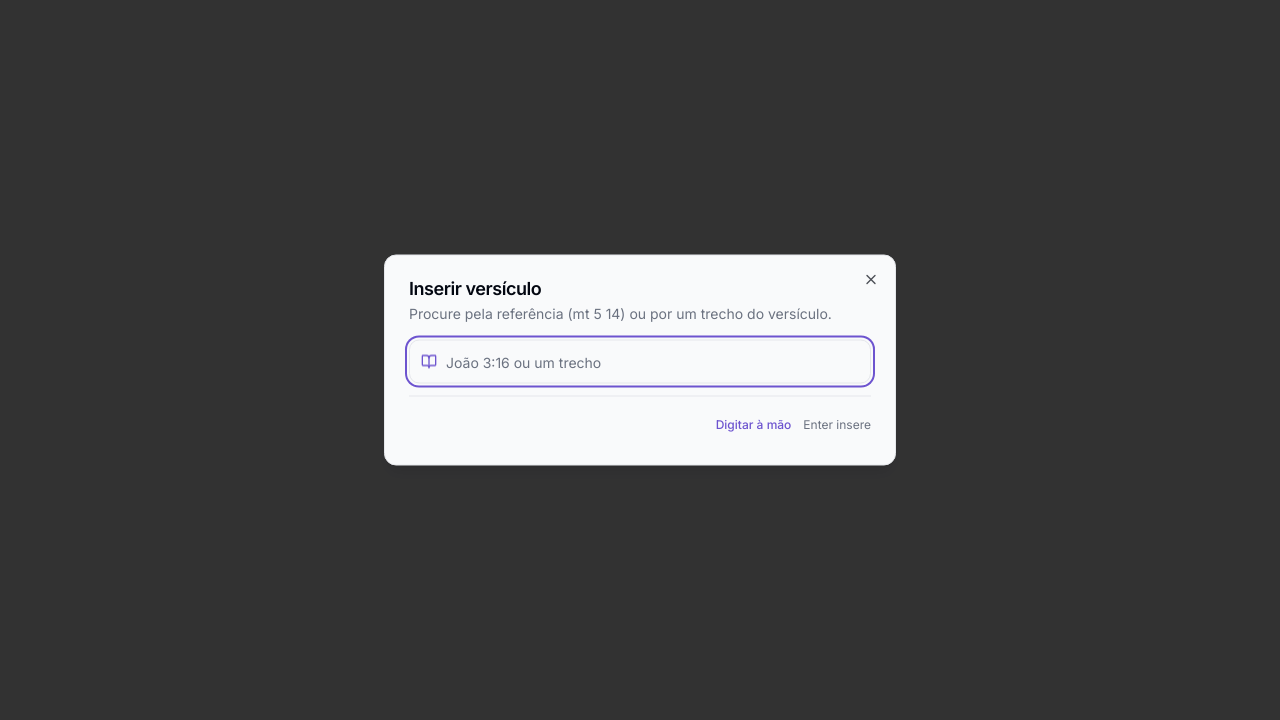
Test: VerseDialog — busca › com duas traduções o seletor troca a tradução da busca
Type "mt 5 14" into the dropdown named "Referência ou palavras do versículo" at (640, 362), box [409,340,871,384]
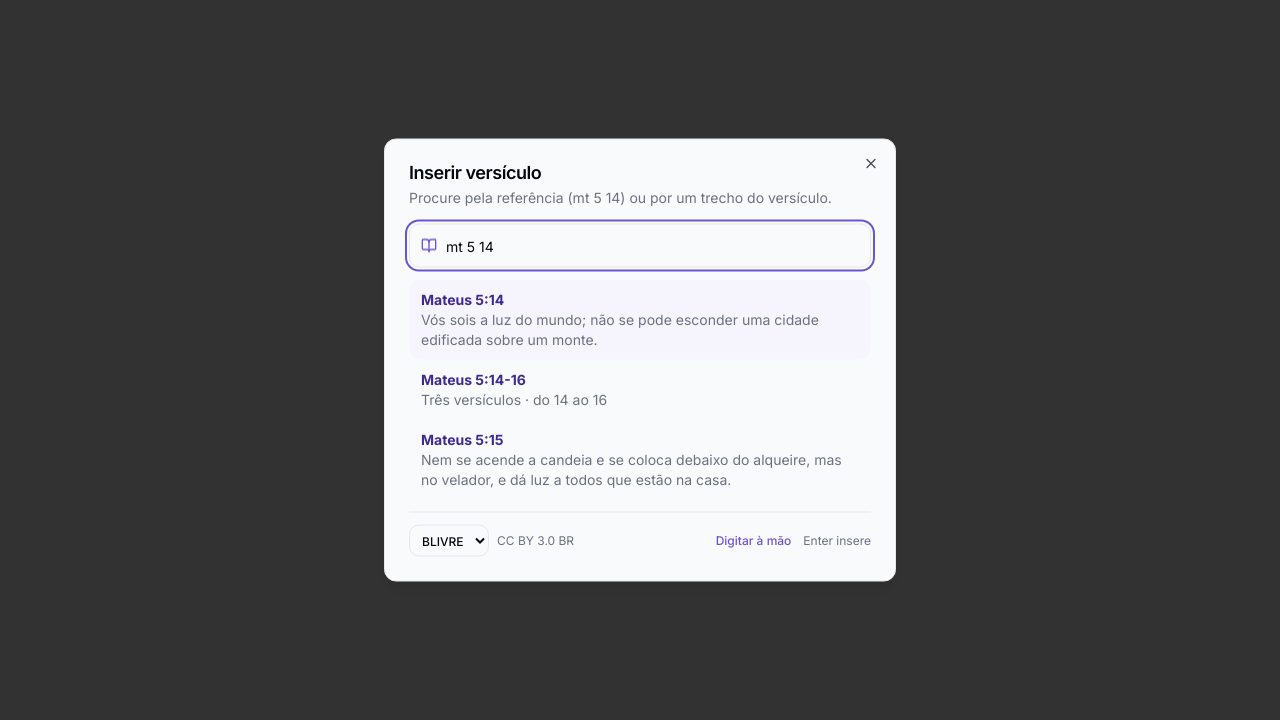
Expected: the dropdown named "Tradução" shows "BLIVRE"
Select "KJA" in the dropdown named "Tradução" at (449, 540), box [409,524,489,556]
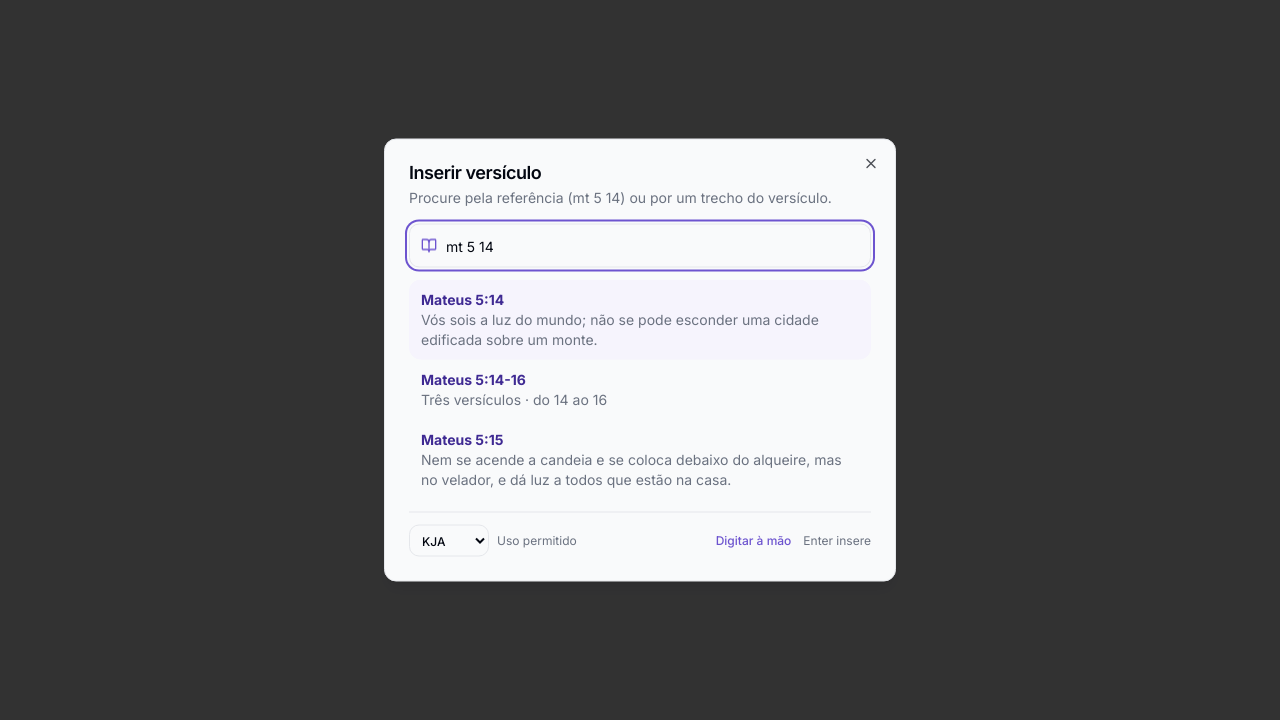
Expected: the text "CC BY 3.0 BR" is gone
